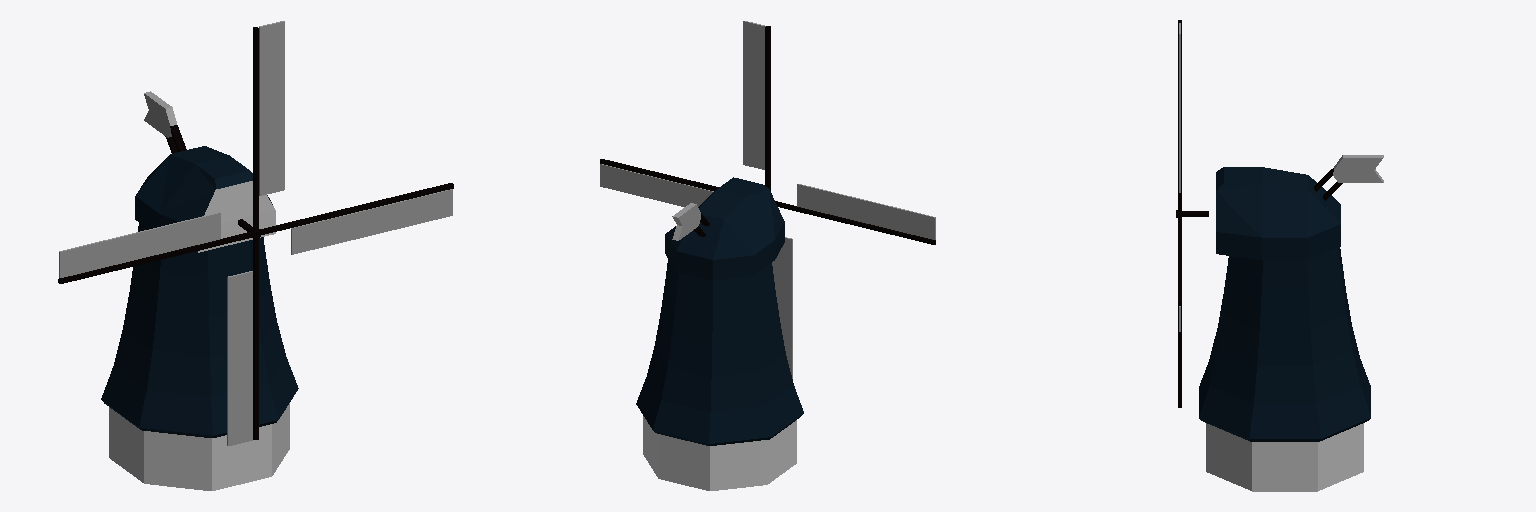
robot.urdf — windmill:
<?xml version="1.0" ?>
<robot name="windmill">
	<link name="base">
<!-- 		<inertial>
			<mass value="80"/>
			<inertia ixx="1" ixy="0" ixz="0" iyy="1" iyz="0" izz="1"/>
		</inertial> -->
		<visual>
			<geometry>
				<mesh filename="package://iai_bullet_sim/meshes/windmill_base.dae"/>
			</geometry>
		</visual>
		<collision>
			<origin rpy="0 0 0" xyz="0 0 0"/>
			<geometry>
				<mesh filename="package://iai_bullet_sim/meshes/windmill_base.dae"/>
			</geometry>
		</collision>
	</link>
	<link name="head">
<!-- 		<inertial>
			<mass value="20"/>
			<inertia ixx="1" ixy="0" ixz="0" iyy="1" iyz="0" izz="1"/>
		</inertial> -->
		<visual>
			<geometry>
				<mesh filename="package://iai_bullet_sim/meshes/windmill_head.dae"/>
			</geometry>
		</visual>
		<collision>
			<origin rpy="0 0 0" xyz="0 0 0"/>
			<geometry>
				<mesh filename="package://iai_bullet_sim/meshes/windmill_head.dae"/>
			</geometry>
		</collision>
	</link>
	<link name="wings">
<!-- 		<inertial>
			<mass value="4"/>
			<inertia ixx="1" ixy="0" ixz="0" iyy="1" iyz="0" izz="1"/>
		</inertial> -->
		<visual>
			<geometry>
				<mesh filename="package://iai_bullet_sim/meshes/windmill_wings.dae"/>
			</geometry>
		</visual>
		<collision>
			<origin rpy="0 0 0" xyz="0 0 0"/>
			<geometry>
				<mesh filename="package://iai_bullet_sim/meshes/windmill_wings.dae"/>
			</geometry>
		</collision>
	</link>
	<joint name="head_pan" type="revolute">
		<parent link="base"/>
		<child link="head"/>
		<origin rpy="0 0 0" xyz="0 0 1.29"/>
		<axis xyz="0 0 1"/>
		<limit effort="30" lower="-1.6" upper="1.6" velocity="0.1"/>
	</joint>
	<joint name="wings_rotor" type="continuous">
		<parent link="head"/>
		<child link="wings"/>
		<origin rpy="0 0 0" xyz="0 -0.4 0.13"/>
		<axis xyz="0 1 0"/>
		<limit effort="10" velocity="10"/>
	</joint>
</robot>

--- Facts derived from the render (not from the file) ---
Views: 3 orthographic renders of the robot side by side, from view 1: azimuth 30°, elevation 25°; view 2: azimuth 150°, elevation 25°; view 3: azimuth 270°, elevation 25°.
Robot: windmill — 3 links, 2 joints (1 revolute, 1 continuous); root link base; default pose: every joint at zero.
Visible links, largest first — view 1: base, wings, head; view 2: base, wings, head; view 3: base, head, wings.
Boxes of the visible links, x1,y1,x2,y2 form: base: (101, 223, 298, 490); wings: (58, 21, 453, 445); head: (135, 91, 275, 252); base: (636, 259, 803, 490); wings: (600, 21, 935, 378); head: (665, 177, 784, 279); base: (1199, 247, 1370, 491); head: (1216, 155, 1383, 259); wings: (1176, 20, 1208, 407).
Size in the robot's own frame: 2.24 by 1.09 by 2.54 metres.
Meshes: 3 distinct files referenced, 3 mesh visuals loaded (3 Collada DAE).